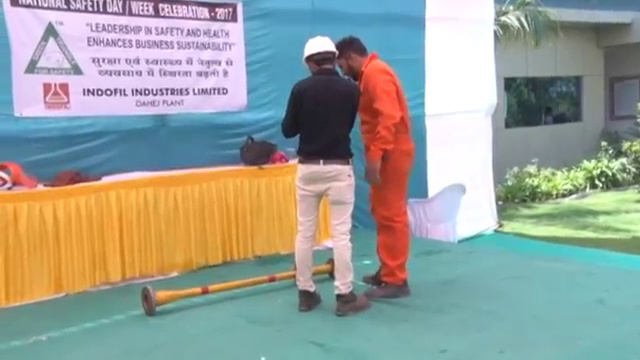helmet: (301, 34, 340, 62)
helmet_off: (337, 34, 368, 82)
helmet_on: (296, 34, 341, 78)
person: (280, 34, 368, 319), (338, 31, 412, 300)
